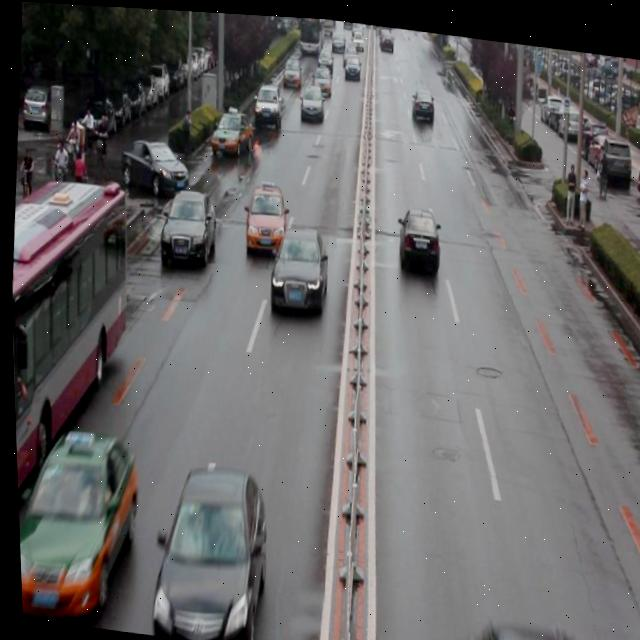car: (12, 421, 140, 621), (140, 458, 269, 640), (265, 217, 327, 310), (158, 183, 218, 268), (119, 131, 190, 193), (240, 176, 287, 253), (391, 200, 439, 268), (207, 100, 254, 157), (250, 77, 284, 128), (298, 80, 323, 117), (409, 85, 434, 119), (311, 61, 332, 93)
van: (5, 168, 137, 515)
